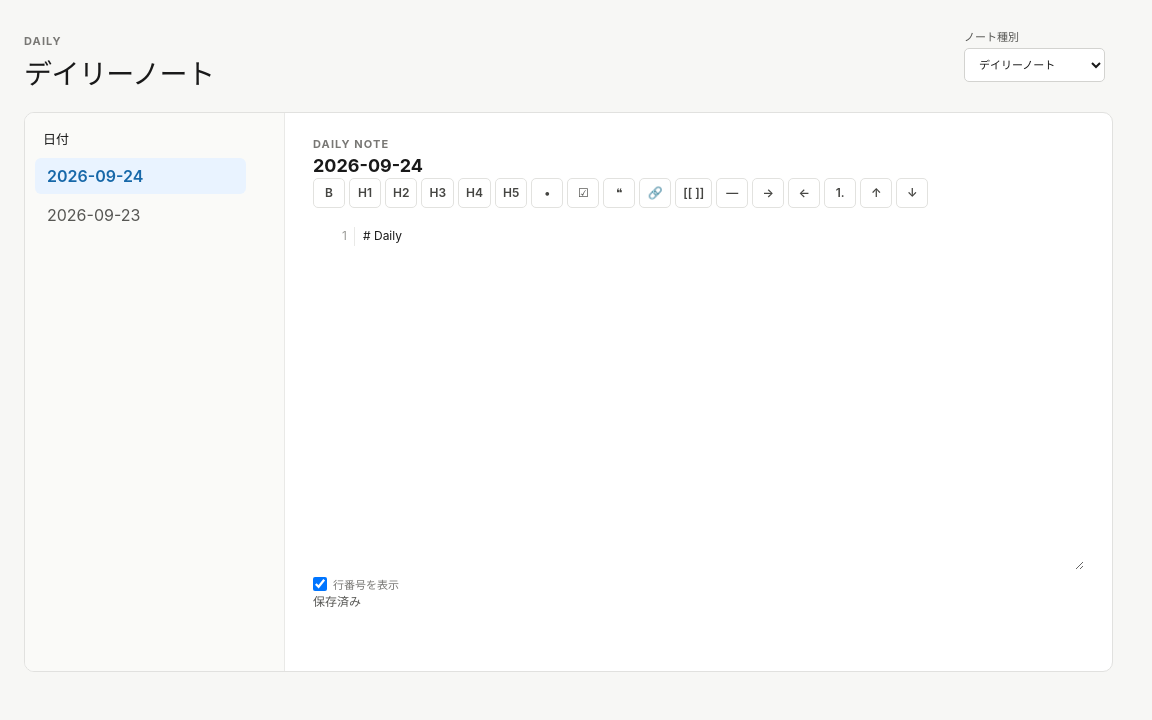
Test: DailyNotesBoard corrective UI › uses the established-day date list and has no editor heading previous/next buttons
Expected: the button "2026-09-24" is shown, [35, 158, 246, 194]
Click the button "2026-09-23" at (140, 215), box [35, 197, 246, 233]
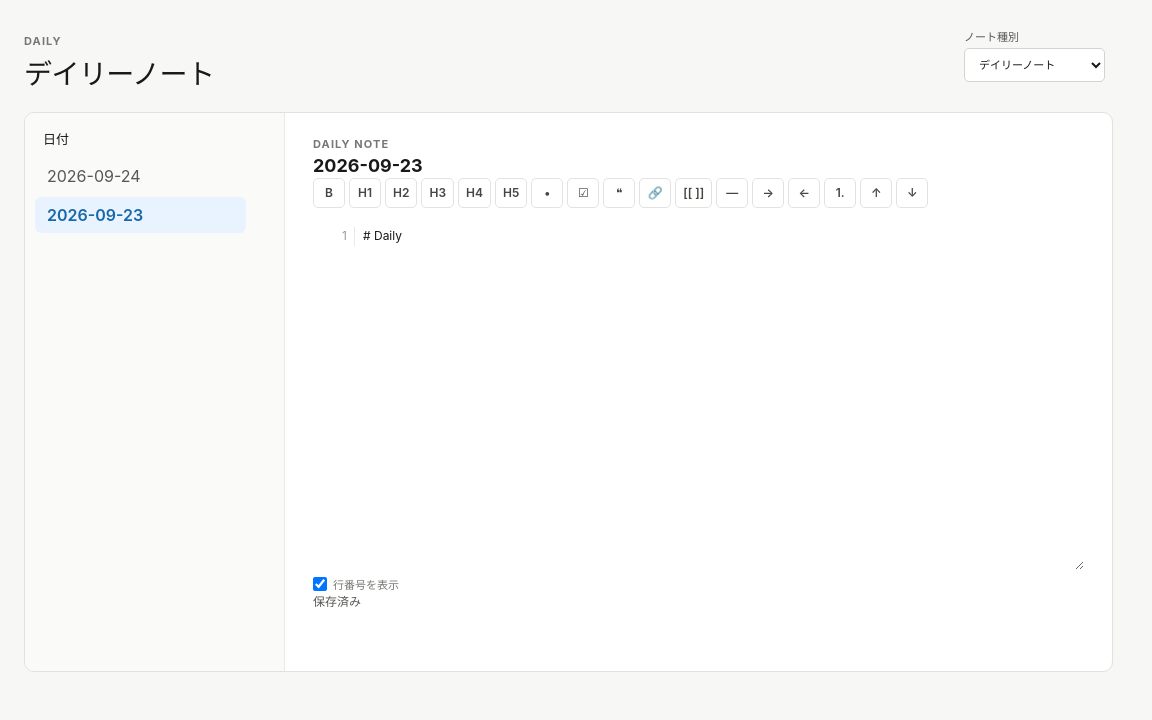
Result: the heading "2026-09-23" is shown at [313, 155, 423, 176]
